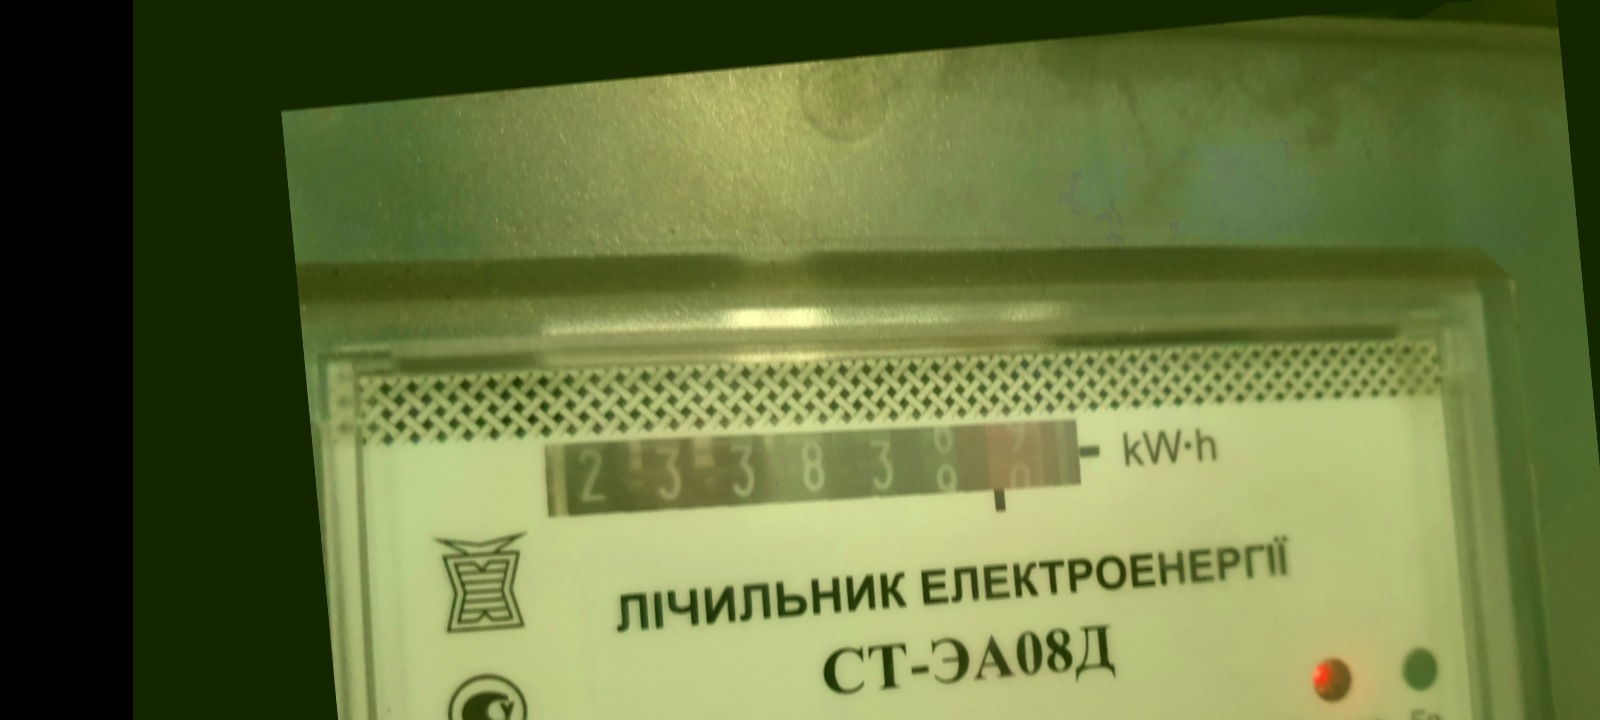0: (1008, 459, 1037, 495)
2: (572, 442, 616, 506)
3: (723, 436, 765, 502), (655, 441, 687, 502), (868, 432, 901, 491)
8: (796, 434, 834, 495), (932, 420, 961, 454)
9: (1002, 415, 1035, 456), (934, 458, 966, 497)
screen: (513, 370, 1118, 581)
